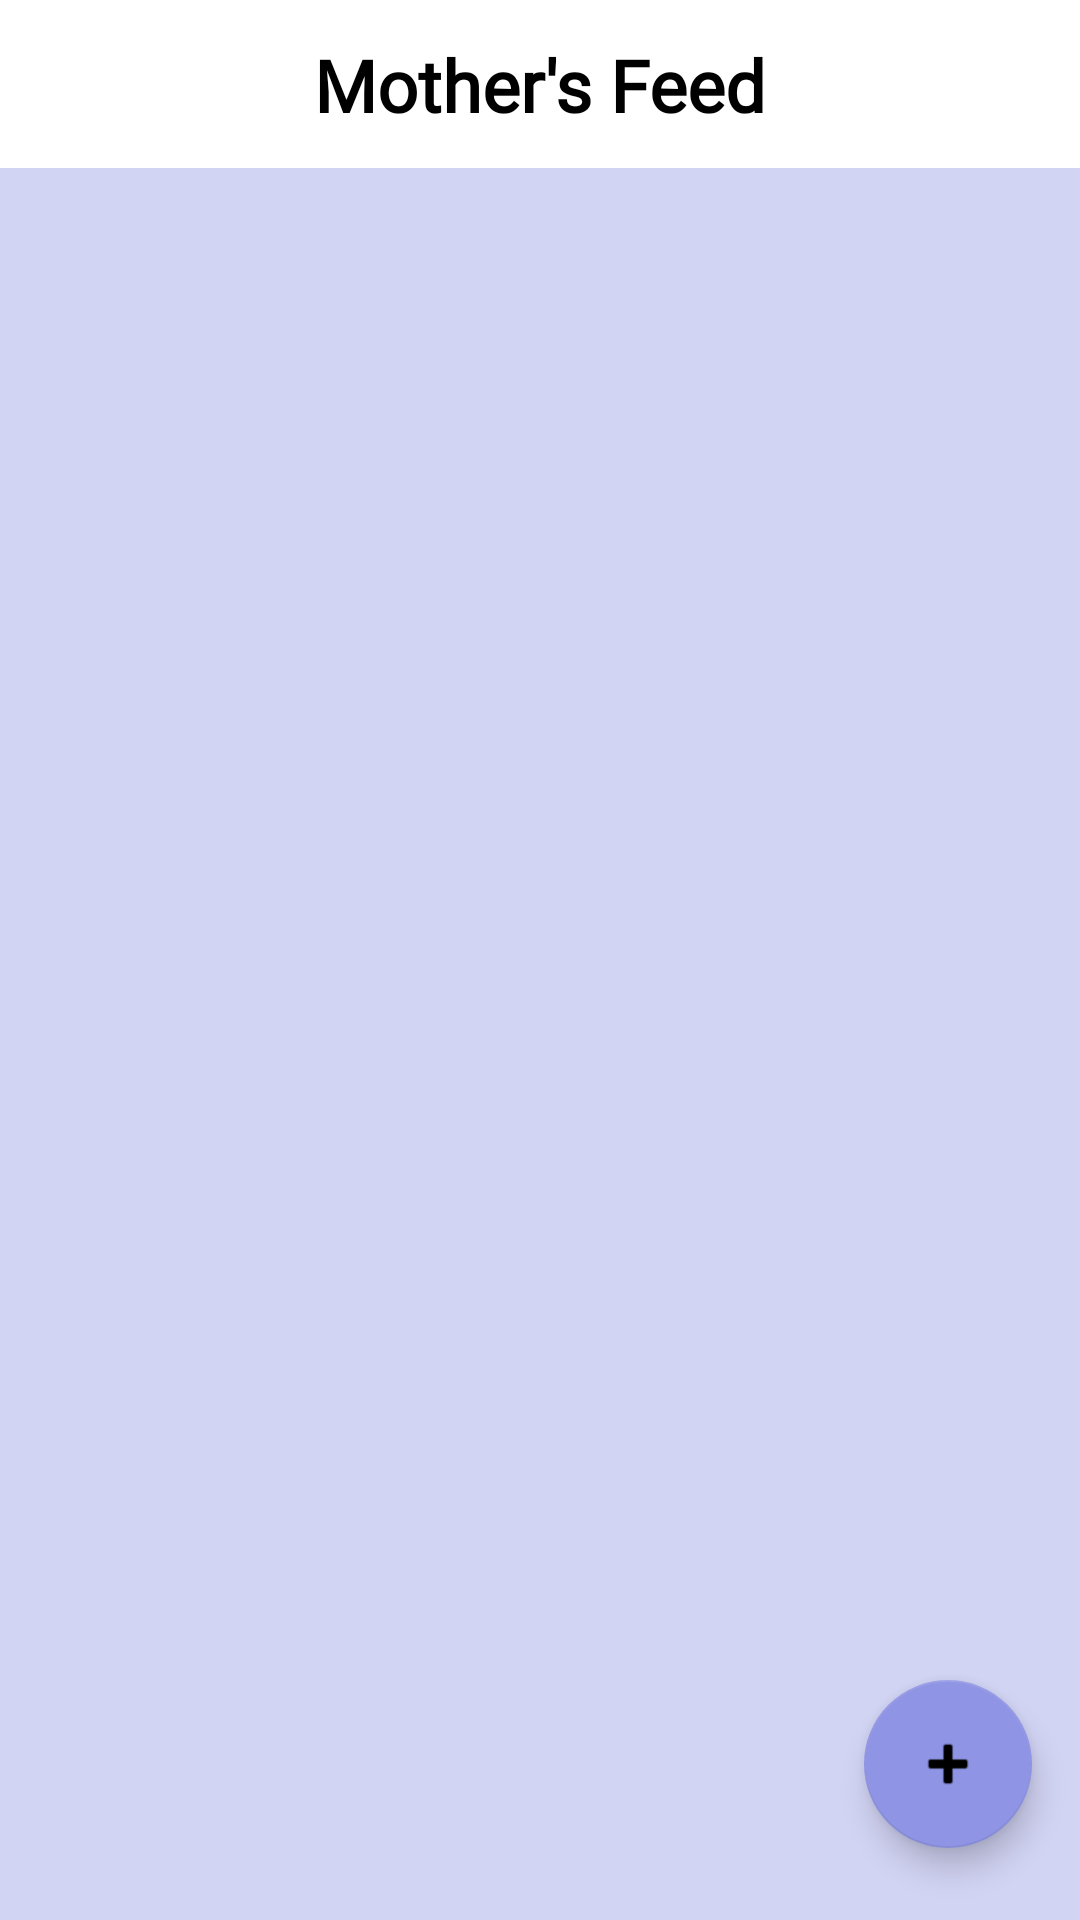

Point at icon controls on the screen. Image size 1080px×1920px, points as (x,y).
add: (948,1764)
